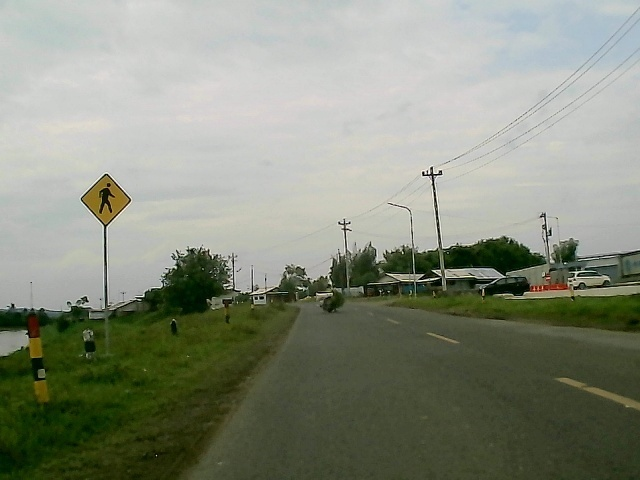Peringatan orang menyeberang: (79, 171, 132, 225)
